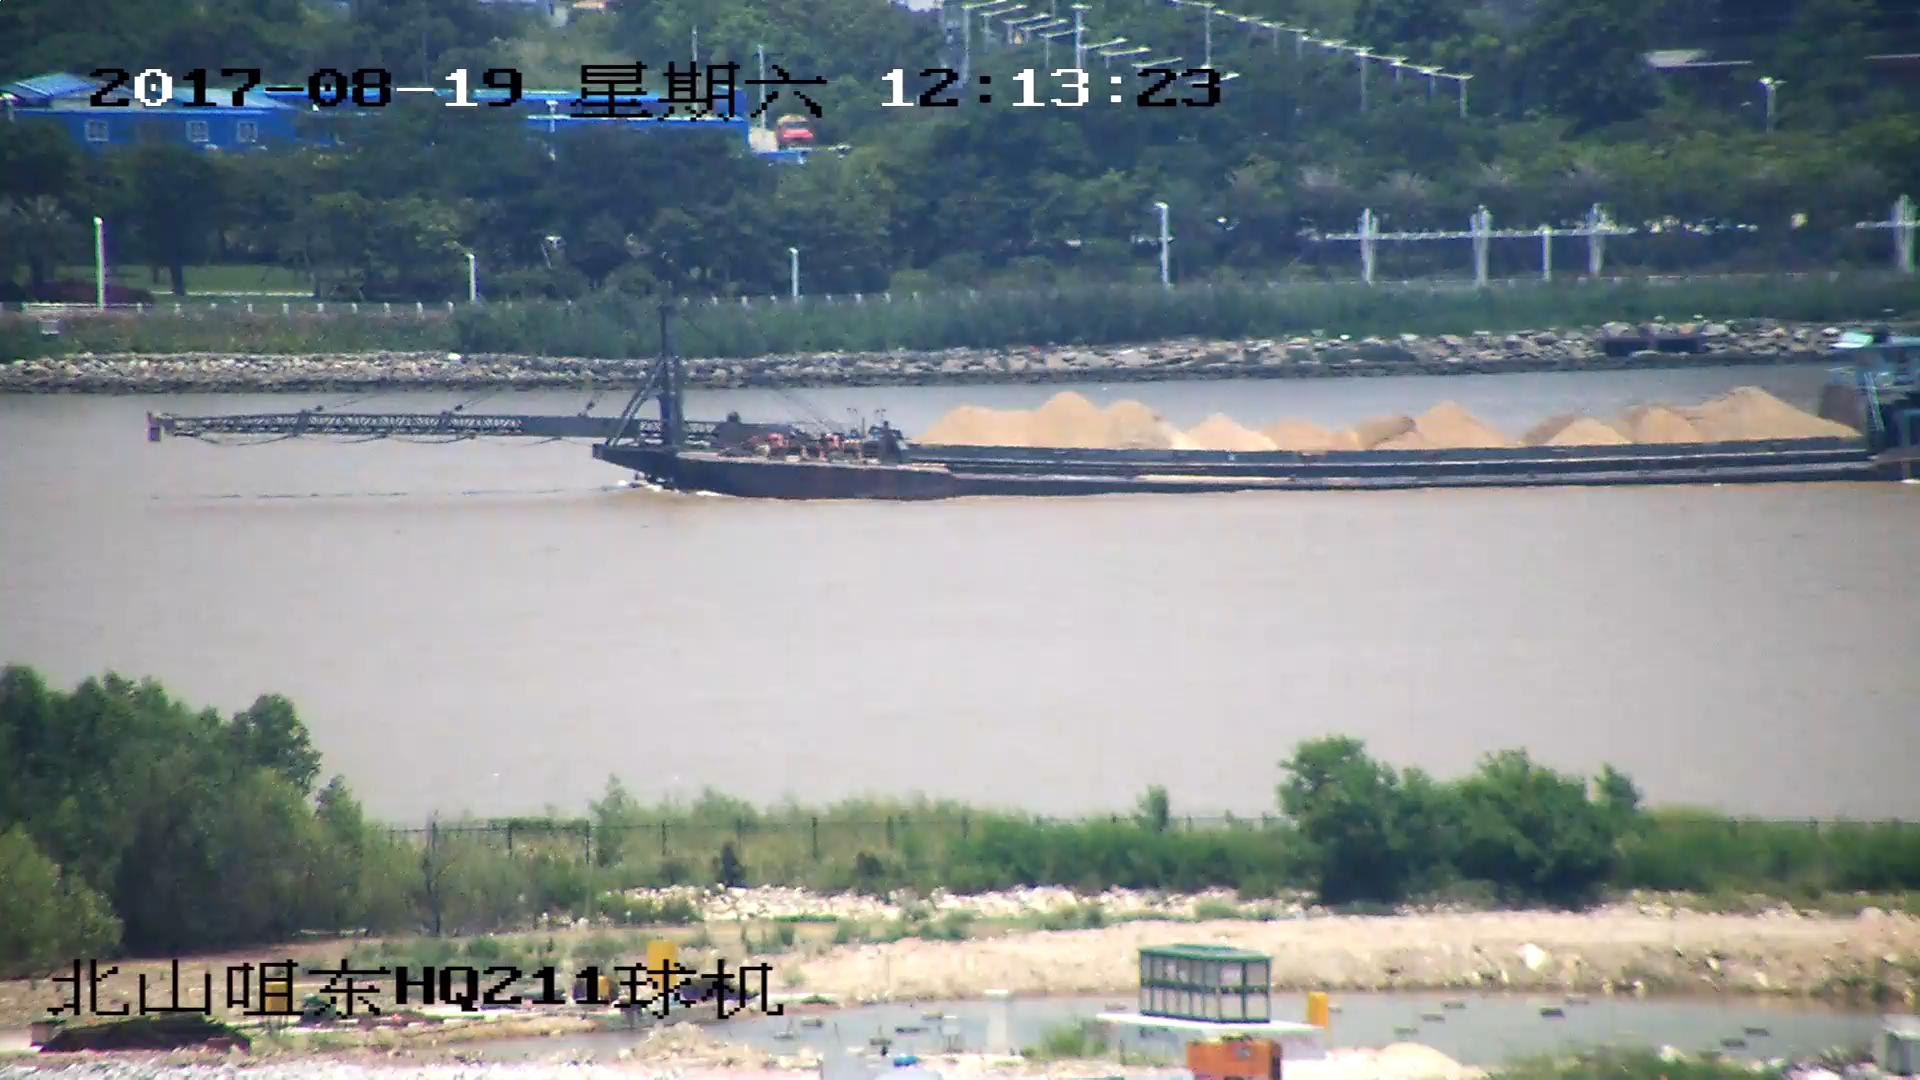ore carrier: (146, 310, 1920, 505)
